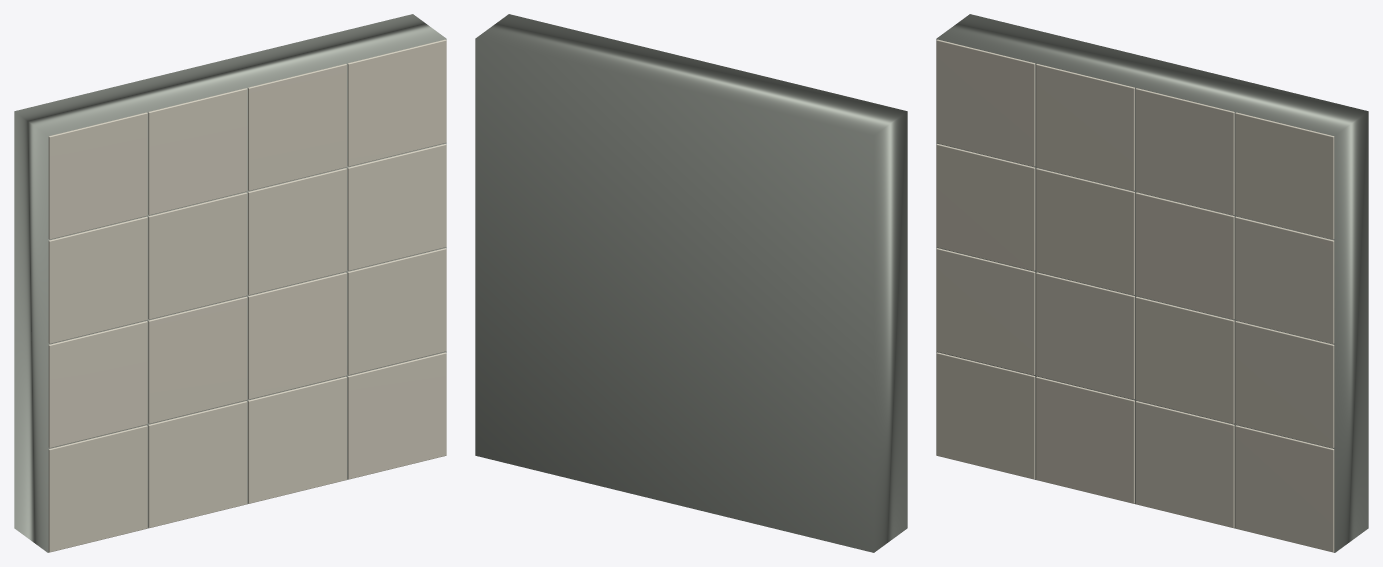
File: wall.glb
3 views of the same model, side by side, from view 1: azimuth 30°, elevation 25°; view 2: azimuth 150°, elevation 25°; view 3: azimuth 330°, elevation 25° (orthographic).
Visible parts, largest first — view 1: WallBase, WallTile_1_2, WallTile_3_0, WallTile_1_1, WallTile_3_1, WallTile_0_0, WallTile_0_1, WallTile_0_3, WallTile_1_0, WallTile_1_3, WallTile_3_3, WallTile_0_2 (+5 smaller); view 2: WallBase; view 3: WallBase, WallTile_0_0, WallTile_2_2, WallTile_0_1, WallTile_2_1, WallTile_3_0, WallTile_3_1, WallTile_3_3, WallTile_0_3, WallTile_2_0, WallTile_2_3, WallTile_0_2 (+5 smaller).
Part boxes in pixels (<box>): WallBase: <box>14,14,446,552</box>; WallTile_1_2: <box>148,192,247,319</box>; WallTile_3_0: <box>347,352,446,479</box>; WallTile_1_1: <box>148,296,247,423</box>; WallTile_3_1: <box>347,248,446,375</box>; WallTile_0_0: <box>48,425,147,552</box>; WallTile_0_1: <box>48,321,147,448</box>; WallTile_0_3: <box>48,112,147,239</box>; WallTile_1_0: <box>148,401,247,528</box>; WallTile_1_3: <box>148,88,247,215</box>; WallTile_3_3: <box>347,39,446,166</box>; WallTile_0_2: <box>48,216,147,343</box>; WallBase: <box>475,14,907,552</box>; WallBase: <box>936,14,1368,552</box>; WallTile_0_0: <box>936,352,1035,479</box>; WallTile_2_2: <box>1135,192,1234,319</box>; WallTile_0_1: <box>936,248,1035,375</box>; WallTile_2_1: <box>1135,296,1234,423</box>; WallTile_3_0: <box>1235,425,1334,552</box>; WallTile_3_1: <box>1235,321,1334,448</box>; WallTile_3_3: <box>1235,112,1334,239</box>; WallTile_0_3: <box>936,39,1035,166</box>; WallTile_2_0: <box>1135,401,1234,528</box>; WallTile_2_3: <box>1135,88,1234,215</box>; WallTile_0_2: <box>936,144,1035,270</box>.
Size of the model in its own units: 2 by 2 by 0.3.
